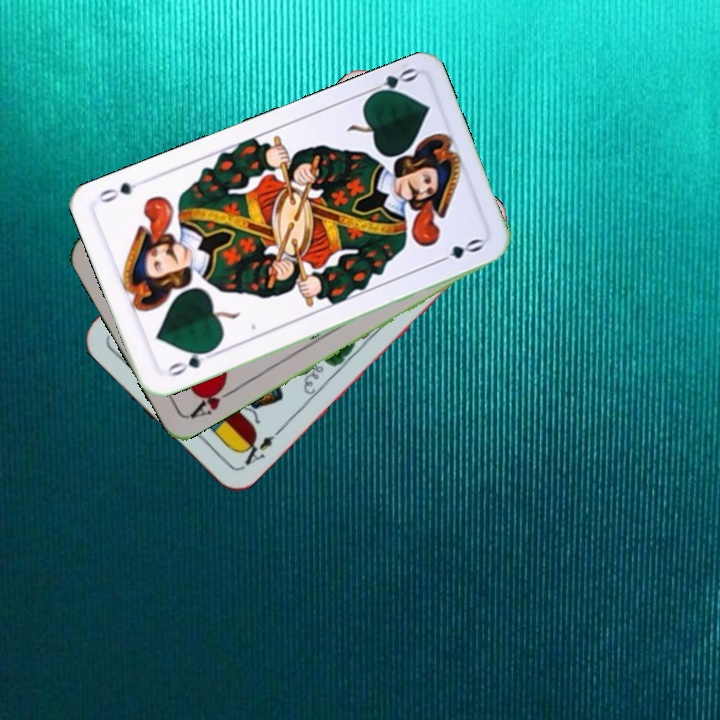EA: (236, 426, 283, 473)
GO: (362, 63, 420, 101), (160, 345, 218, 379)
HA: (185, 378, 239, 422)
